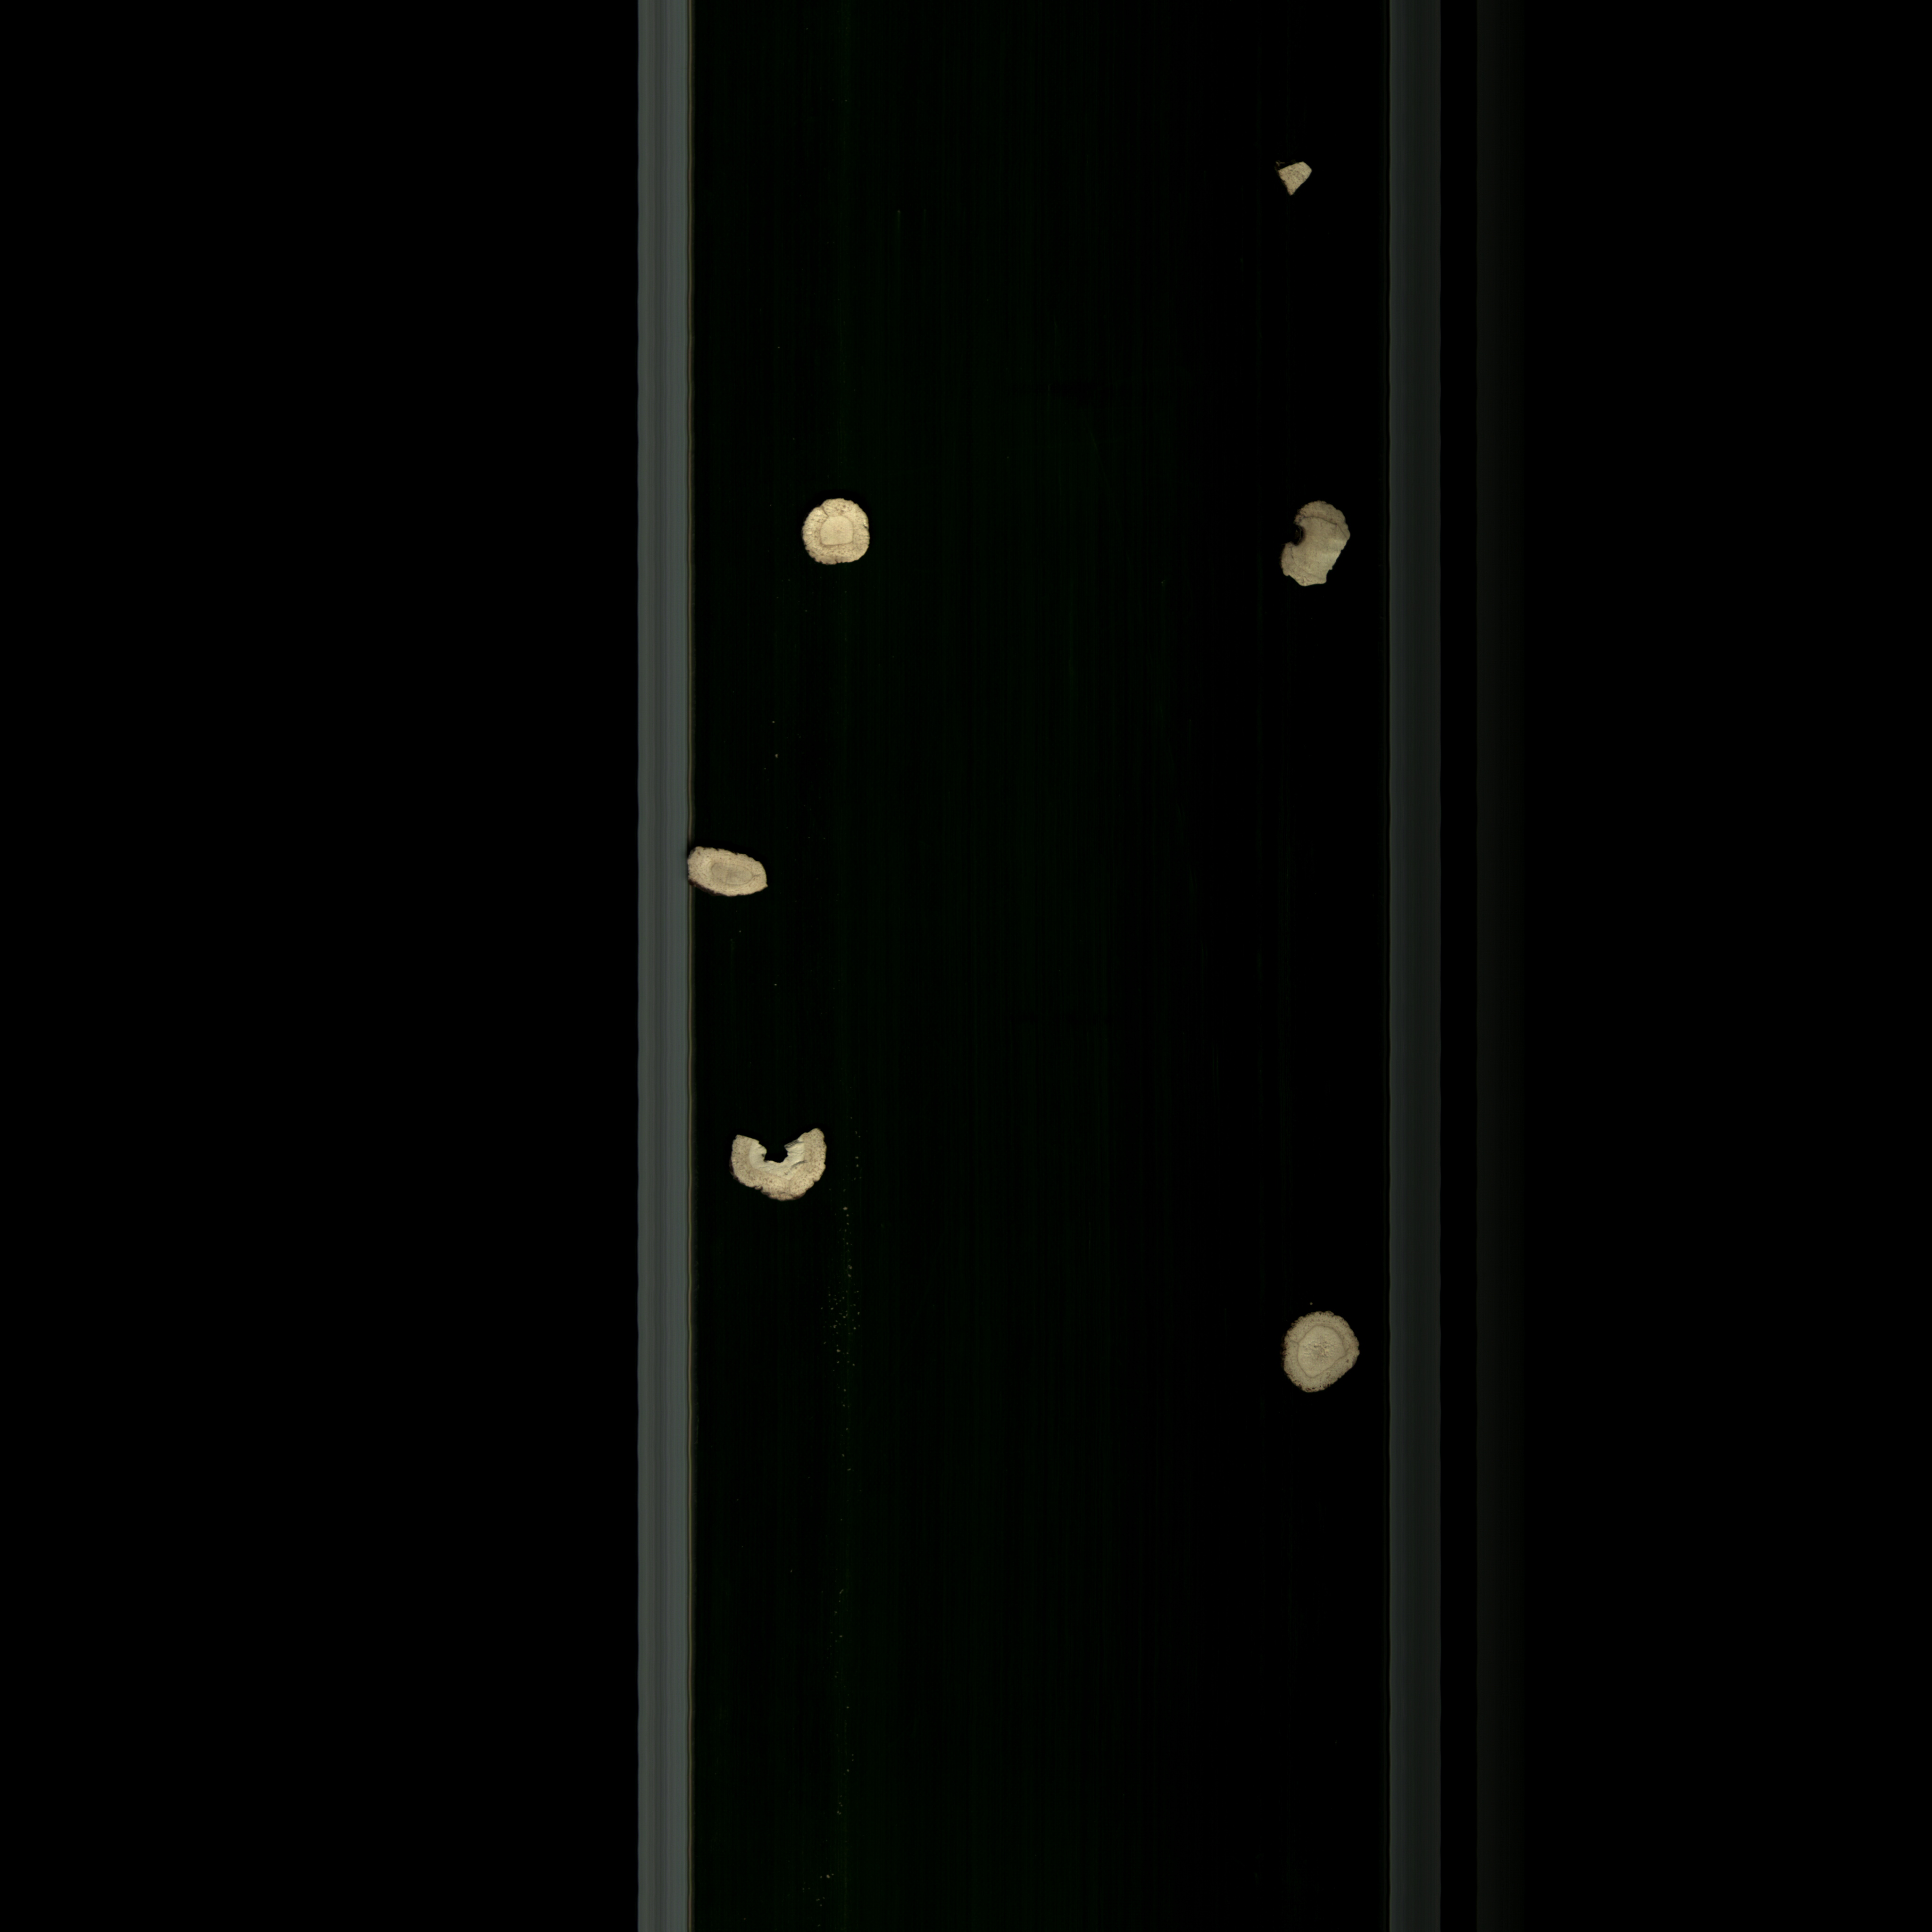debris: (709, 1116, 844, 1221), (1276, 485, 1357, 610)
distortion: (1270, 1307, 1371, 1405), (676, 837, 782, 911), (1263, 154, 1322, 209)
